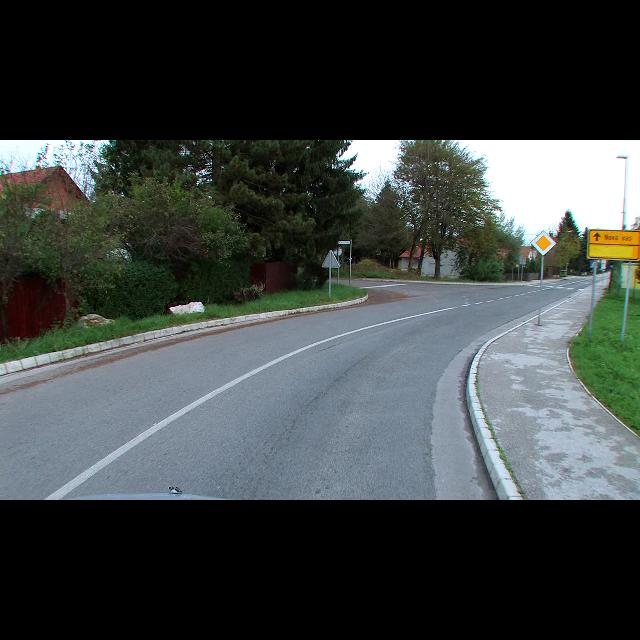Multi-inform: (588, 228, 640, 262)
Prior: (532, 229, 556, 255)
